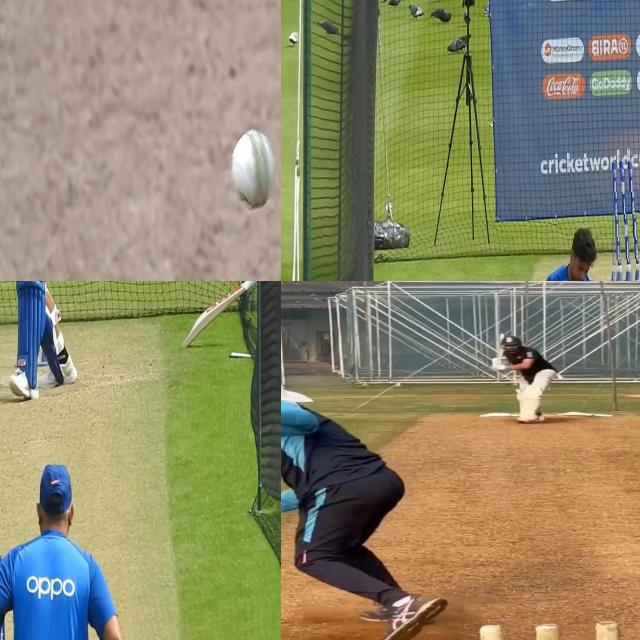Cricket ball: (228, 123, 276, 215)
Stumps: (608, 157, 638, 281)
